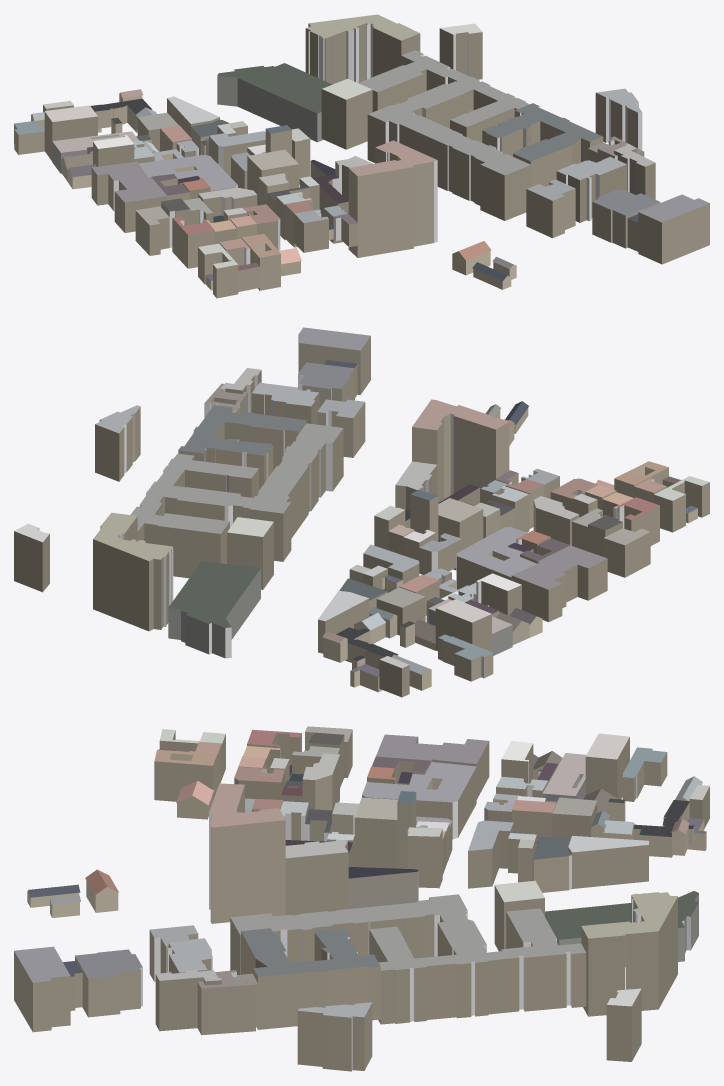
3 renders of one model, top to bottom at view 1: azimuth 30°, elevation 25°; view 2: azimuth 150°, elevation 25°; view 3: azimuth 270°, elevation 25°, orthographic. The views are drawn at different scales.
Visible parts, largest first — view 1: tuile; view 2: tuile; view 3: tuile.
Boxes of the visible parts, x1,y1,x2,y2 form: tuile: (14,14,709,298); tuile: (14,327,709,697); tuile: (14,726,709,1071).
Bounding box in the file's own units: 256 × 45.78 × 262.
